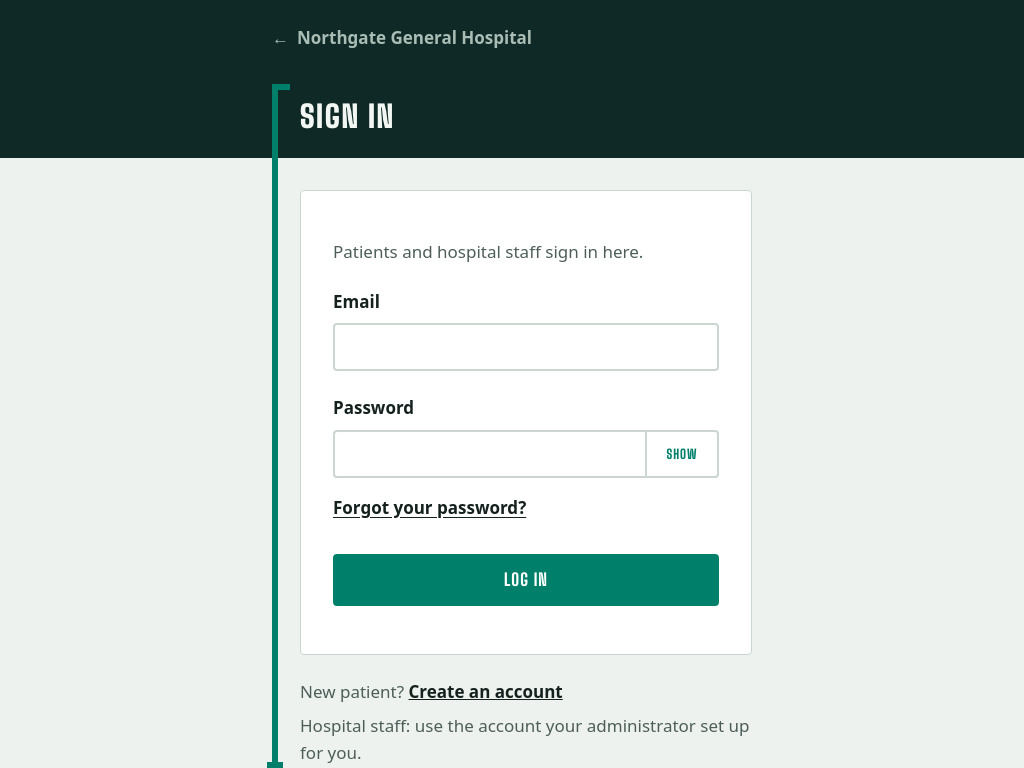
Scenario: LoginPage › tells the user when the credentials are wrong
Type "sara@example.com" into the field labelled "Email". click: point(526, 348)
box: [333,324,719,372]
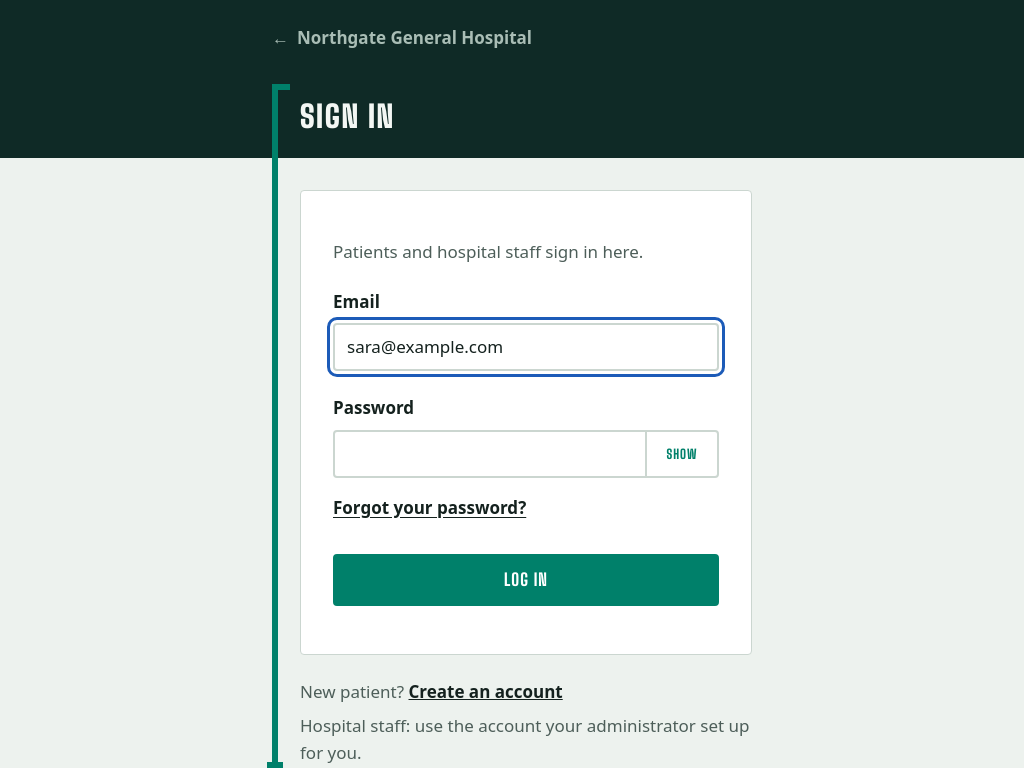
Type "wrong-password" into the password field labelled "Password". click: point(526, 454)
box: [333,430,719,478]
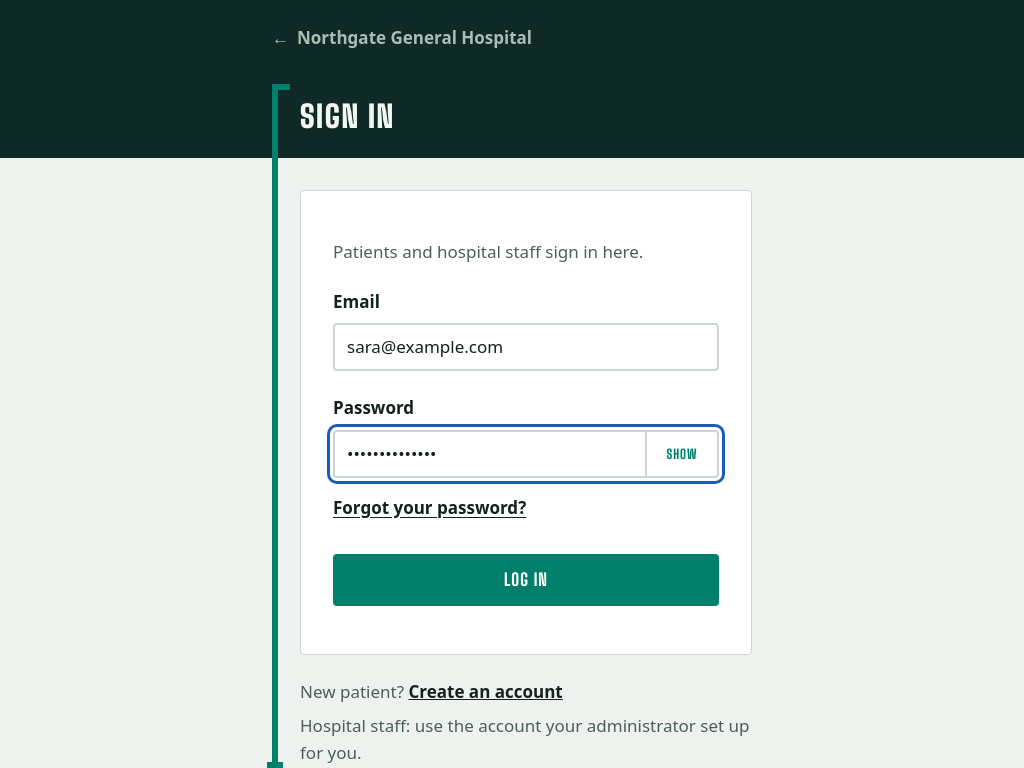
Click the button "Log in". click: point(526, 580)
box: [333,554,719,606]
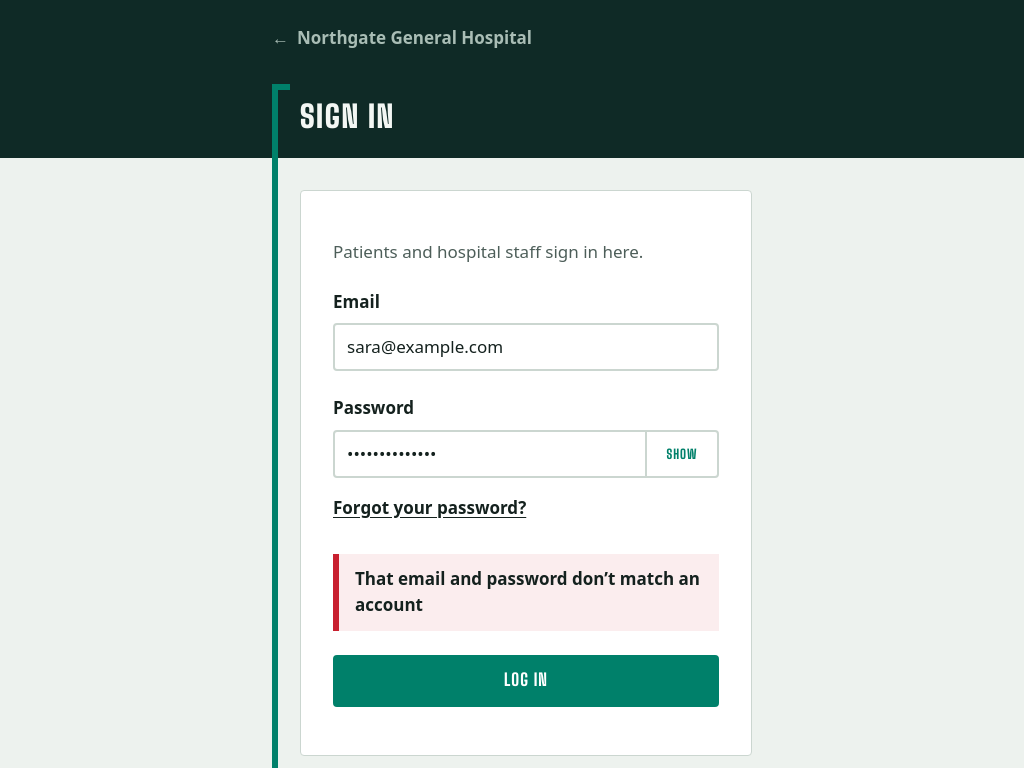
Expected: the message reads "That email and password don’t match an account", [355,567,700,616]
